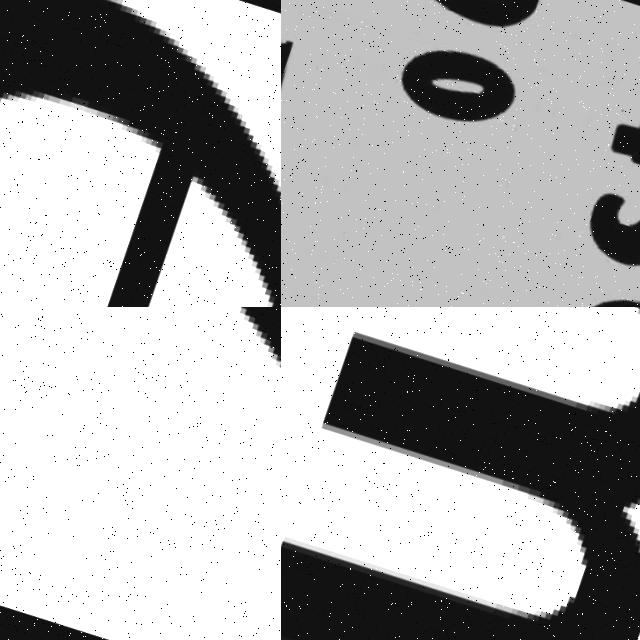0: (373, 19, 556, 168)
3: (617, 10, 640, 127)
4: (583, 70, 640, 229)
5: (562, 168, 640, 307)
9: (383, 0, 567, 69)
M: (281, 307, 640, 640)
Y: (0, 307, 281, 640)
